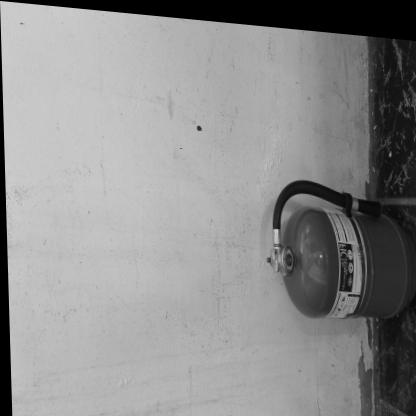FE: (268, 171, 416, 315)
